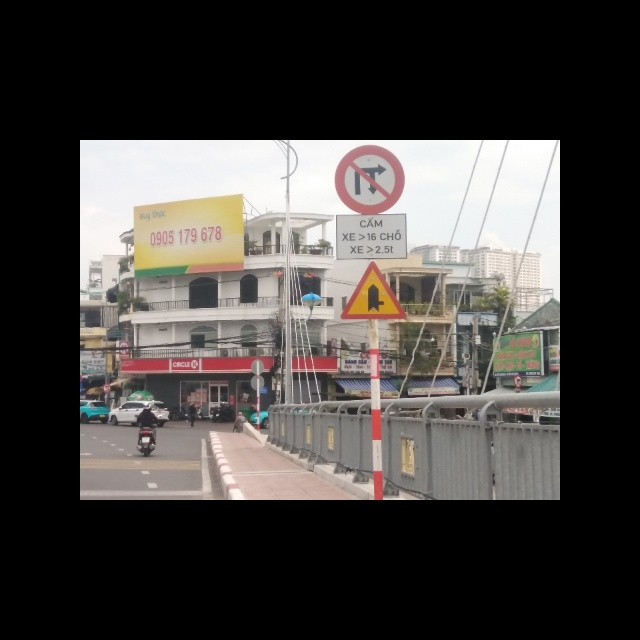Cấm quay đầu và rẽ phải: (333, 145, 405, 215)
Giao nhau với đường không ưu tiên: (338, 260, 407, 323)
